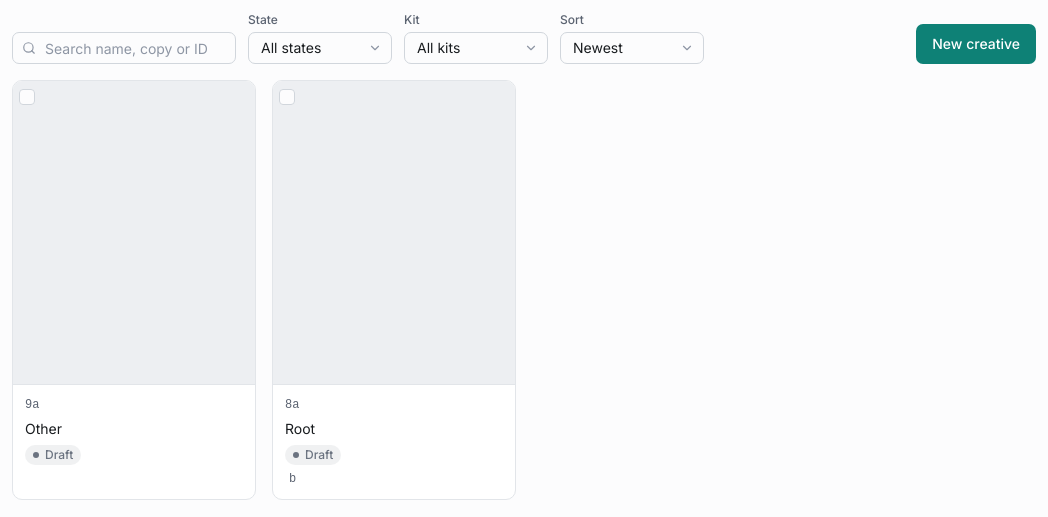
Test: CreativeLibraryGrid › browse, usage and bulk delete › families under a state filter › never presents a variant as the root: the tile is the real root, found because a variant matches, and the filter is applied here
This screenshot has width=1048, height=517.
Expected: the text "8a" is shown, x1=285 y1=396 x2=299 y2=412
Select "Ready" in the dropdown labelled "State". click: (320, 48)
box: x1=248 y1=32 x2=392 y2=64
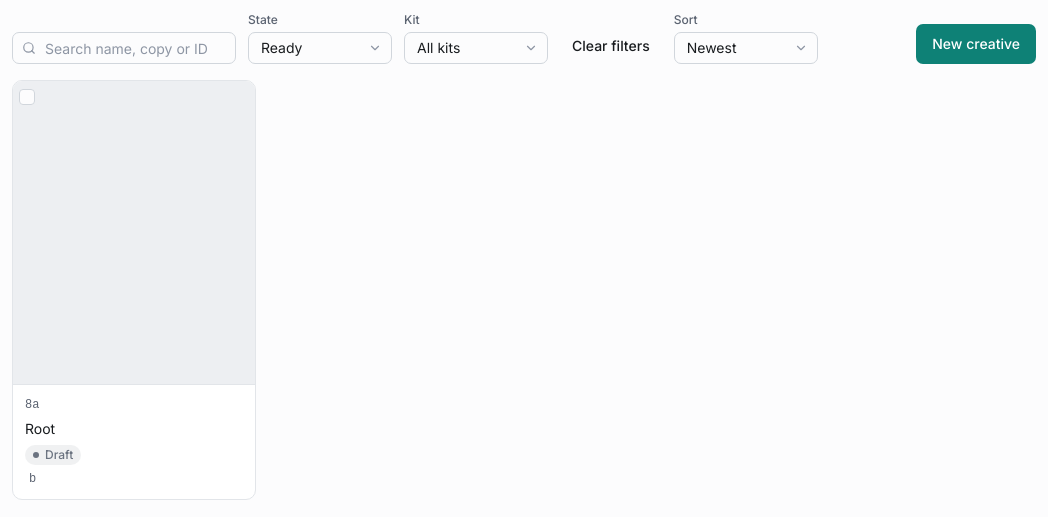
Expected: the element with test id "creative-tile-r" is shown, x1=12 y1=80 x2=256 y2=500
Now the element with test id "creative-tile-o" is gone
